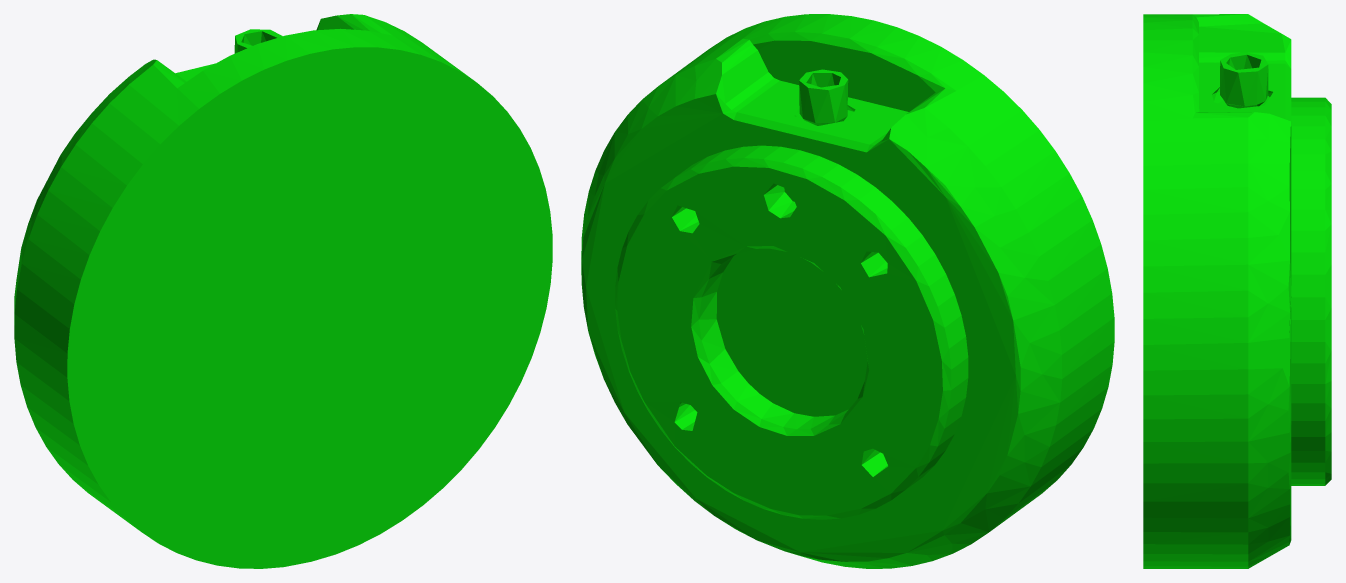
File: wrist3G.dae
The picture shows the model from 3 angles, left to right: view 1: azimuth 30°, elevation 25°; view 2: azimuth 150°, elevation 25°; view 3: azimuth 270°, elevation 25°; orthographic projection.
Visible parts, largest first — view 1: node-shape0-name; view 2: node-shape0-name; view 3: node-shape0-name.
Boxes of the visible parts, bbox=[...] form: node-shape0-name: bbox=[14, 14, 552, 568]; node-shape0-name: bbox=[581, 14, 1114, 568]; node-shape0-name: bbox=[1143, 14, 1331, 568].
Bounding box in the file's own units: 0.0899 × 0.0305 × 0.0901.
